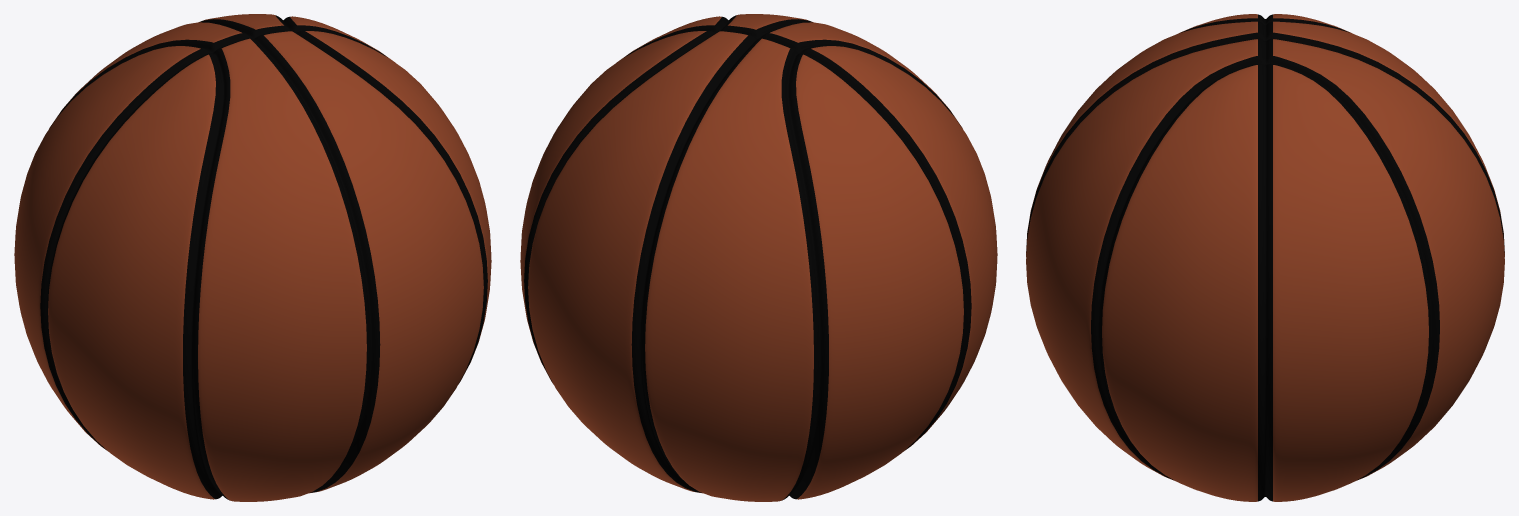
3 renders of one model, left to right at view 1: azimuth 30°, elevation 25°; view 2: azimuth 150°, elevation 25°; view 3: azimuth 270°, elevation 25°, orthographic.
Parts seen in each view (by area): view 1: basketball; view 2: basketball; view 3: basketball.
Boxes of the visible parts, x1=… form: basketball: x1=14, y1=14, x2=491, y2=501; basketball: x1=520, y1=14, x2=997, y2=501; basketball: x1=1026, y1=14, x2=1504, y2=501.
Bounding box in the file's own units: 0.271 × 0.2776 × 0.271.
